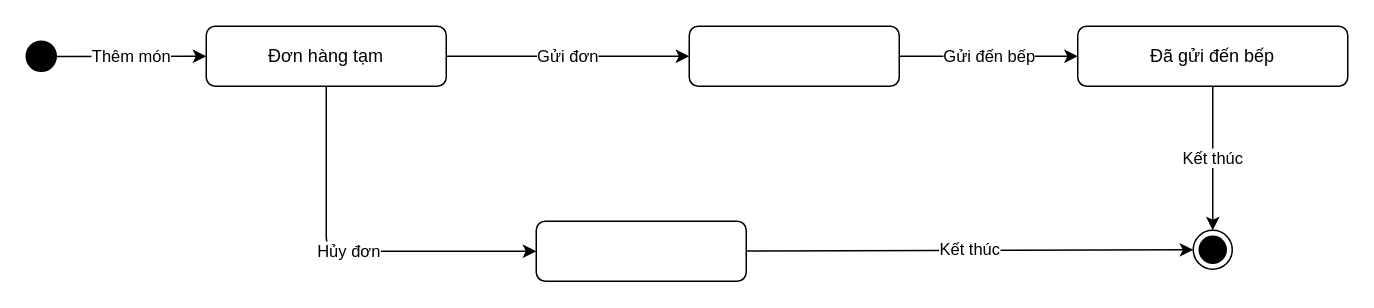
The diagram is 1374 pixels wide and 308 high, and some of its shapes have lost their labels. Here are the shapes that lost their labels. From the top down, the box of each, then its label:
(688, 25, 899, 86): Chờ xử lý
(535, 220, 746, 281): Đã hủy
